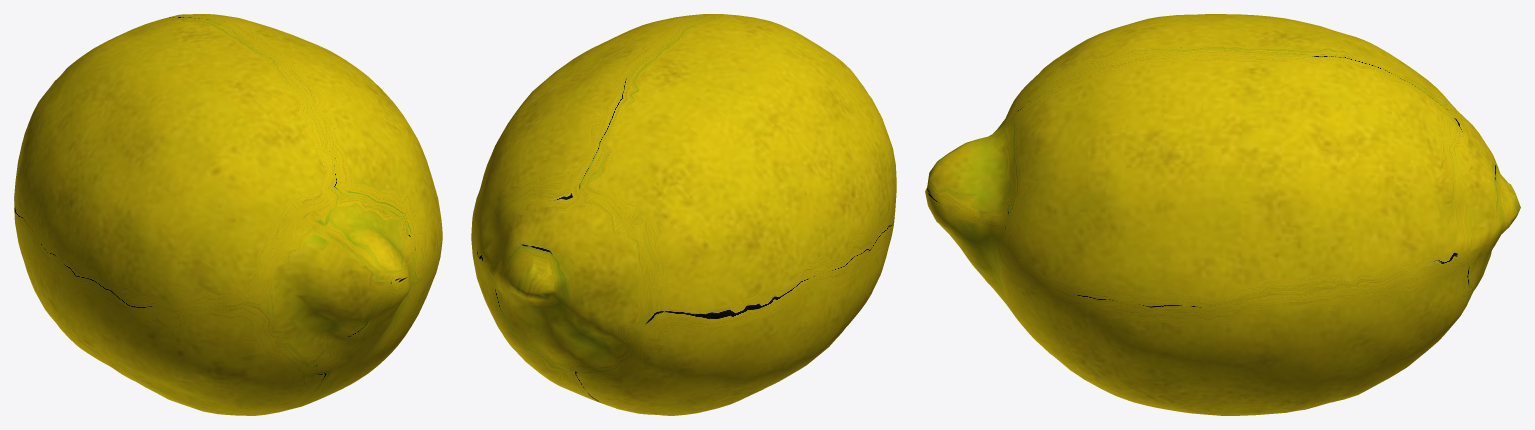
File: food_produce_lemon_a11.glb
3 renders of one model, left to right at view 1: azimuth 30°, elevation 25°; view 2: azimuth 150°, elevation 25°; view 3: azimuth 270°, elevation 25°, orthographic. The views are drawn at different scales.
Parts seen in each view (by area): view 1: prop; view 2: prop; view 3: prop.
Boxes of the visible parts, box(x1,y1,x2,y2) form: prop: box(14, 14, 442, 415); prop: box(471, 14, 896, 415); prop: box(925, 14, 1520, 415).
Bounding box in the file's own units: 0.421 × 0.3969 × 0.5998.
1 material, 1 textured.
